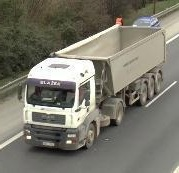truck: (22, 27, 166, 151)
